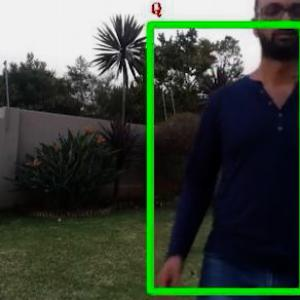follow: (188, 0, 299, 299)
